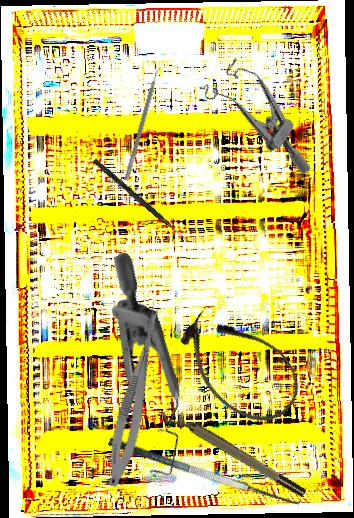Cannula: (165, 295, 314, 438)
Fixation Ring: (158, 401, 309, 506)
Hook Surgical: (91, 158, 192, 244)
Micro Scissor: (101, 297, 168, 491)
Spatula Surgical: (107, 420, 305, 516), (123, 65, 165, 183)
Speculum: (12, 250, 252, 500), (190, 50, 339, 176)
